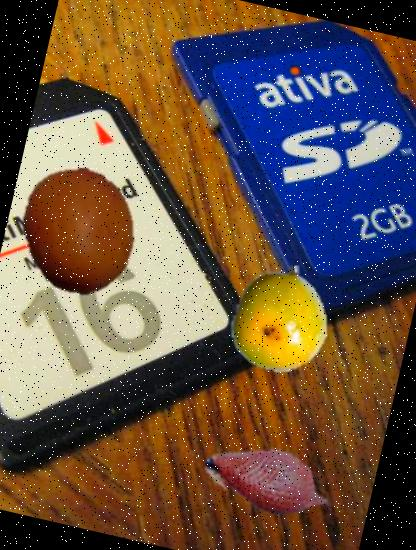Apricot: (1, 154, 156, 308)
Maracuja: (214, 255, 341, 382)
Salak: (190, 401, 347, 550)
